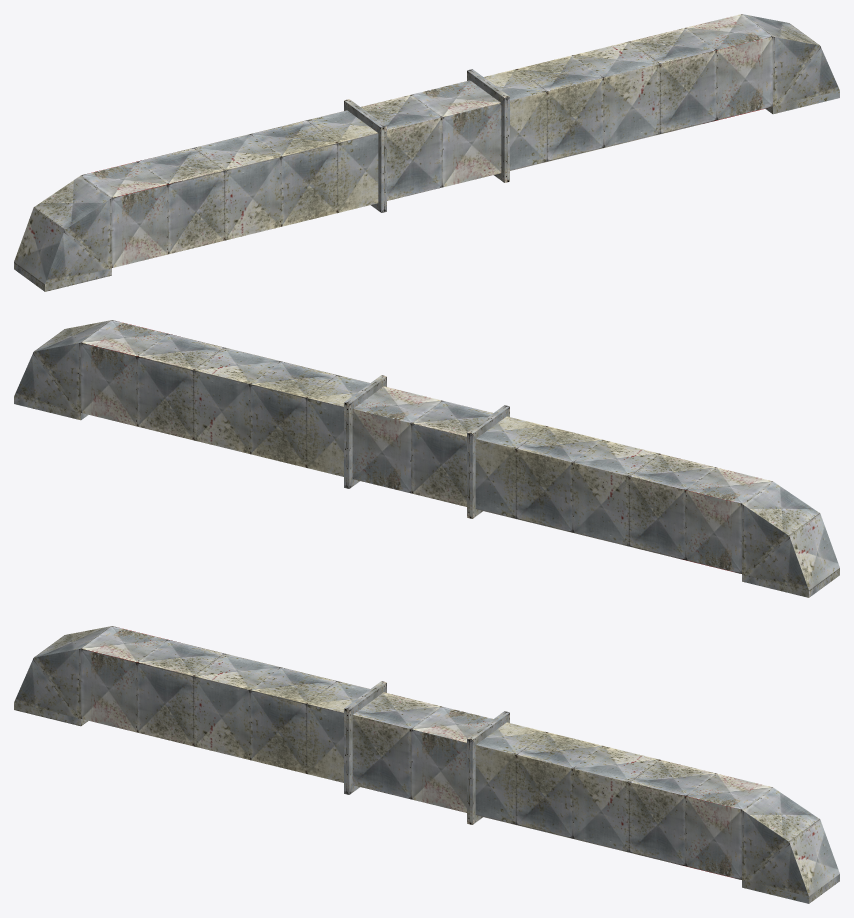
Rendered from vent_04.fbx.
3 renders of one model, top to bottom at view 1: azimuth 30°, elevation 25°; view 2: azimuth 150°, elevation 25°; view 3: azimuth 330°, elevation 25°, orthographic.
Visible parts, largest first — view 1: vent_04; view 2: vent_04; view 3: vent_04.
Boxes of the visible parts, bbox=[...] form: vent_04: bbox=[14, 14, 839, 291]; vent_04: bbox=[14, 320, 839, 597]; vent_04: bbox=[14, 626, 839, 903].
Size of the model in its own units: 9.66 by 0.9881 by 0.7905.
